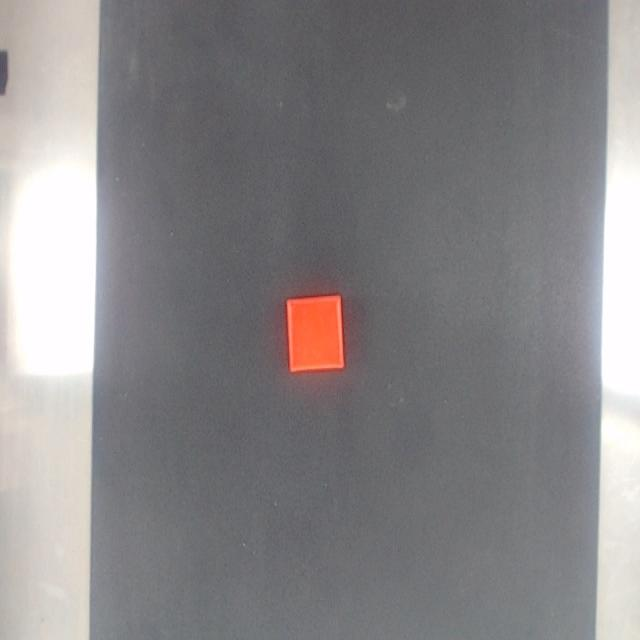Rojo: (286, 295, 343, 371)
